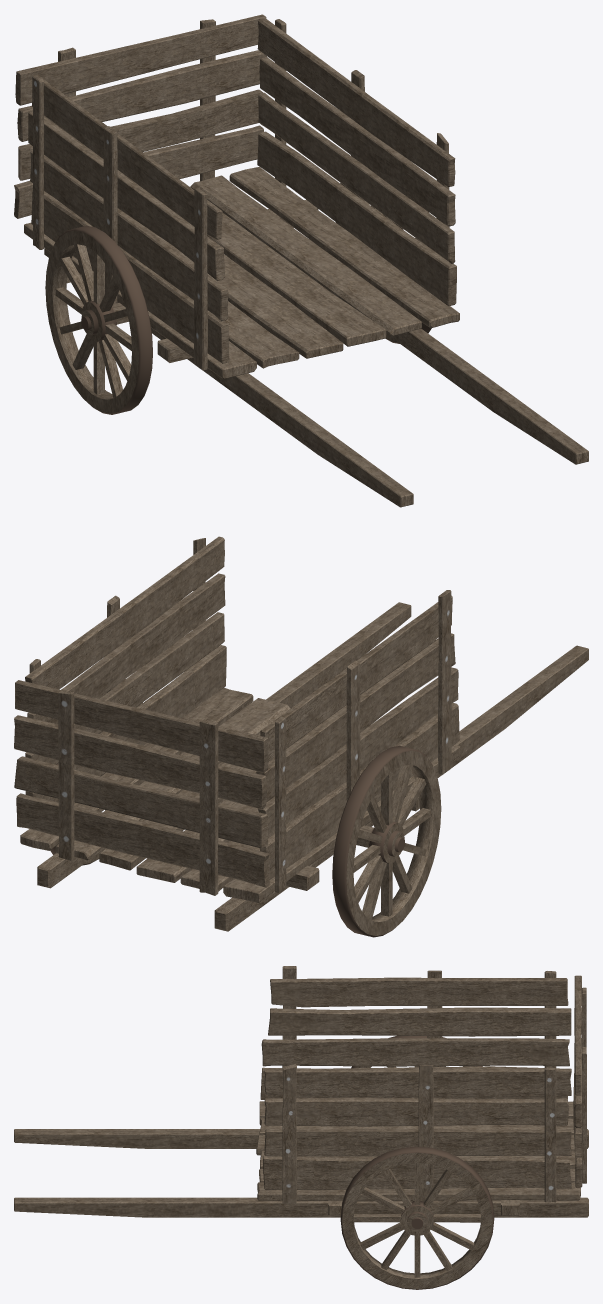
File: Cart.fbx
3 renders of one model, top to bottom at view 1: azimuth 30°, elevation 25°; view 2: azimuth 150°, elevation 25°; view 3: azimuth 270°, elevation 25°, orthographic. The views are drawn at different scales.
Parts seen in each view (by area): view 1: Cylinder.002; view 2: Cylinder.002; view 3: Cylinder.002.
Part boxes in pixels (x1,y1,x2,y2): Cylinder.002: (14, 14, 588, 507); Cylinder.002: (14, 536, 588, 937); Cylinder.002: (14, 966, 588, 1289).
Size of the model in its own units: 220 by 177 by 428.
Materials: 2 (2 with a texture image).
